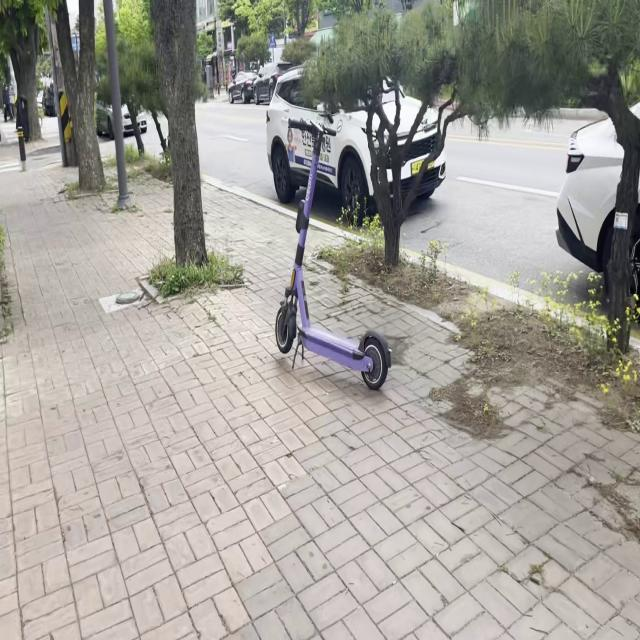kickboard_ok: (277, 266, 386, 390)
